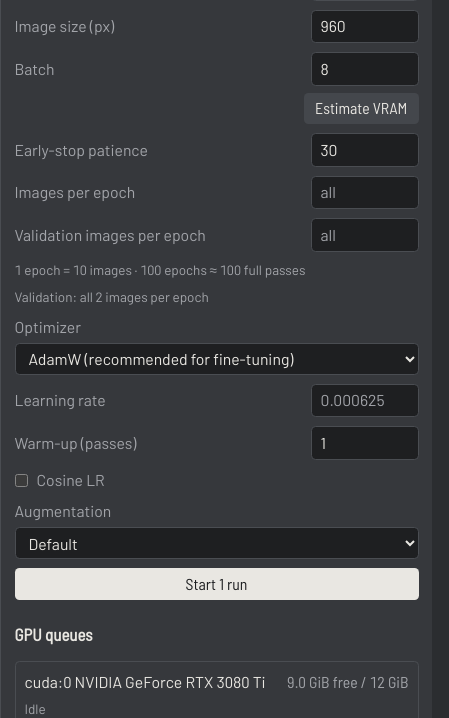
TrainSidebar optimizer › disables the learning rate for Auto, which picks its own
(page scrolled)
Select "Auto (Ultralytics picks)" in the dropdown labelled "Optimizer" at (216, 359), box [14, 343, 418, 375]
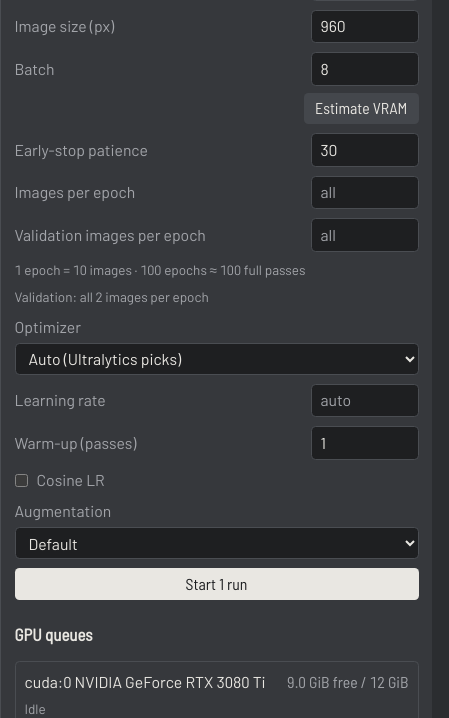
Now the number field labelled "Learning rate" is disabled, box [310, 384, 418, 417]
